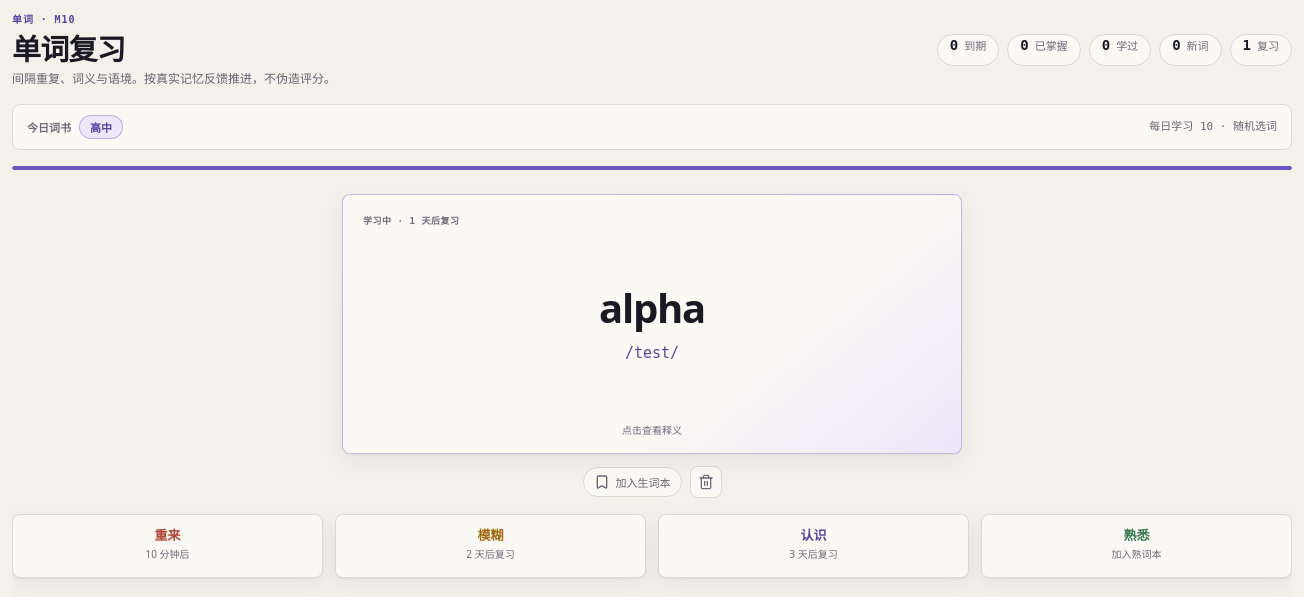
Test: WordsPage › removes the card from the queue when fuzzy schedules a later review (fuzzy_days > 0)
Click the button "模糊 2 天后复习" at x=490, y=546, box [335,514,646,578]
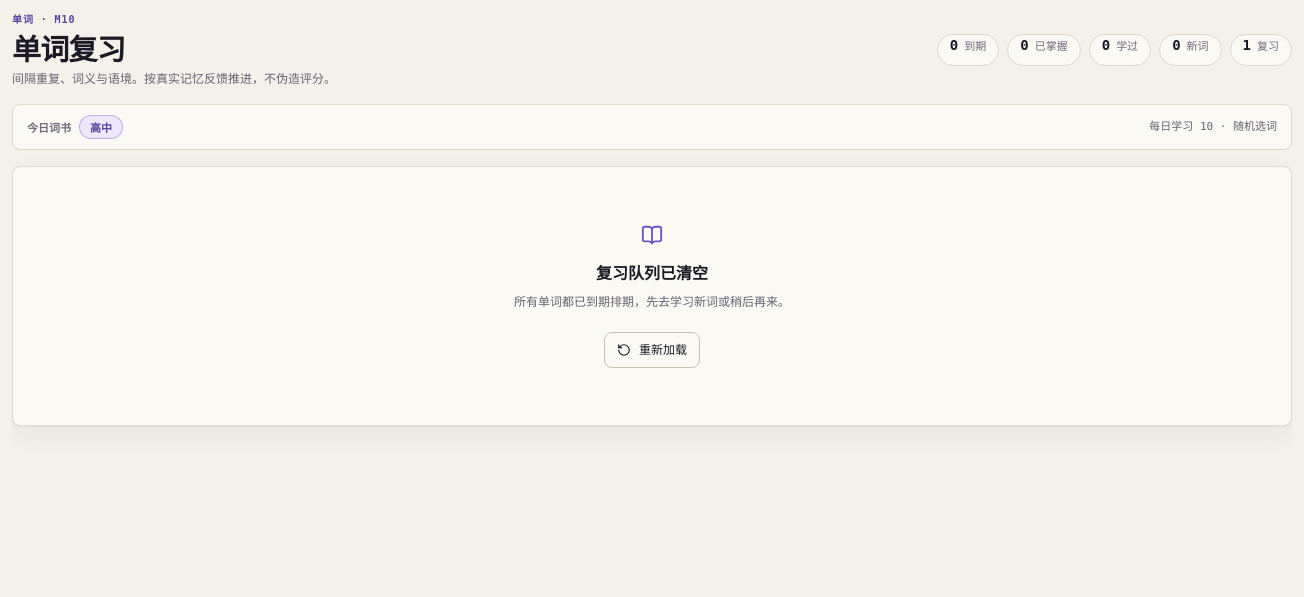
expect the heading "复习队列已清空" is shown: met, box [596,260,708,284]
